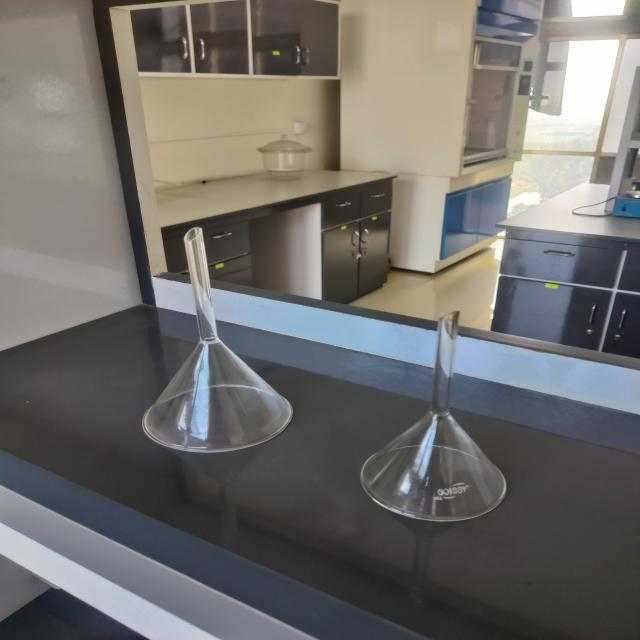Funnel: (335, 282, 553, 550), (118, 197, 302, 481)
